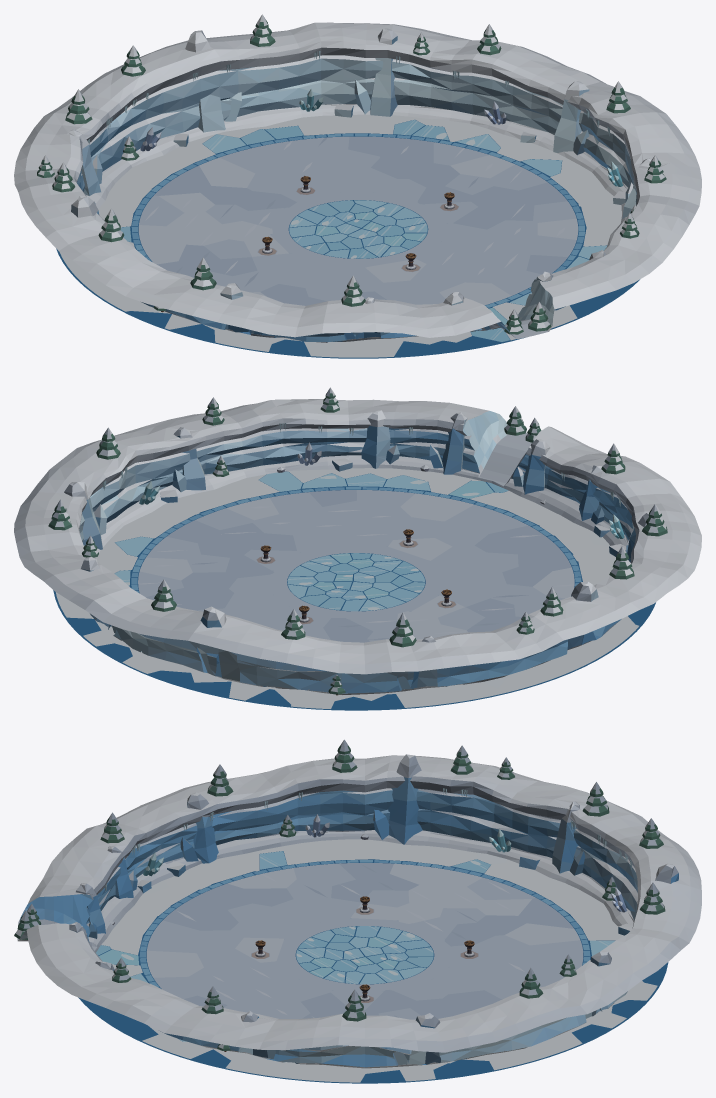
File: Yeti_Arena.glb
The picture shows the model from 3 angles, top to bottom: view 1: azimuth 30°, elevation 25°; view 2: azimuth 150°, elevation 25°; view 3: azimuth 270°, elevation 25°; orthographic projection.
Visible parts, largest first — view 1: Walls, Floor, Props, Braziers; view 2: Walls, Floor, Props, Braziers; view 3: Walls, Floor, Props, Braziers.
Boxes of the visible parts, bbox=[...] form: Walls: bbox=[14, 22, 701, 342]; Floor: bbox=[56, 114, 639, 358]; Props: bbox=[37, 14, 666, 334]; Braziers: bbox=[262, 176, 454, 269]; Walls: bbox=[14, 399, 701, 694]; Floor: bbox=[53, 468, 655, 710]; Props: bbox=[48, 387, 667, 695]; Braziers: bbox=[260, 529, 452, 622]; Walls: bbox=[17, 754, 701, 1068]; Floor: bbox=[78, 839, 668, 1083]; Props: bbox=[14, 739, 665, 1051]; Braziers: bbox=[255, 896, 474, 1001].
Size of the model in its own units: 144 by 24.39 by 145.
